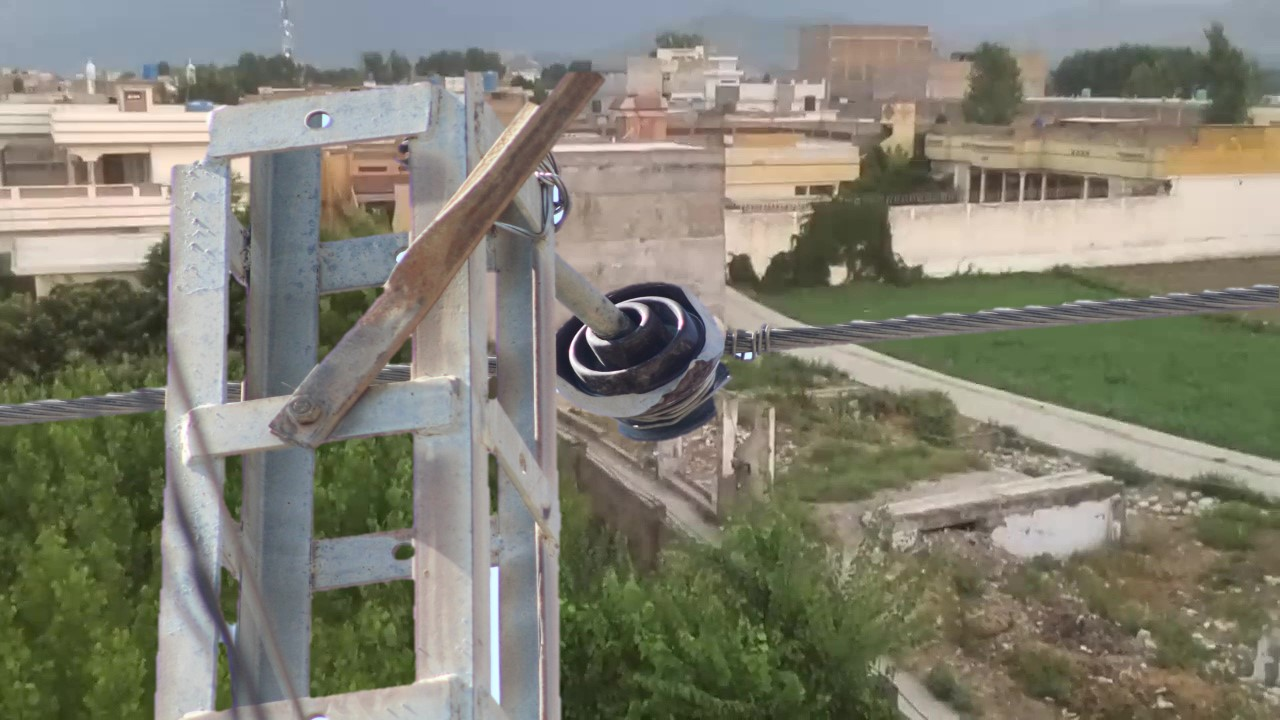defect_pin: (558, 270, 737, 443)
